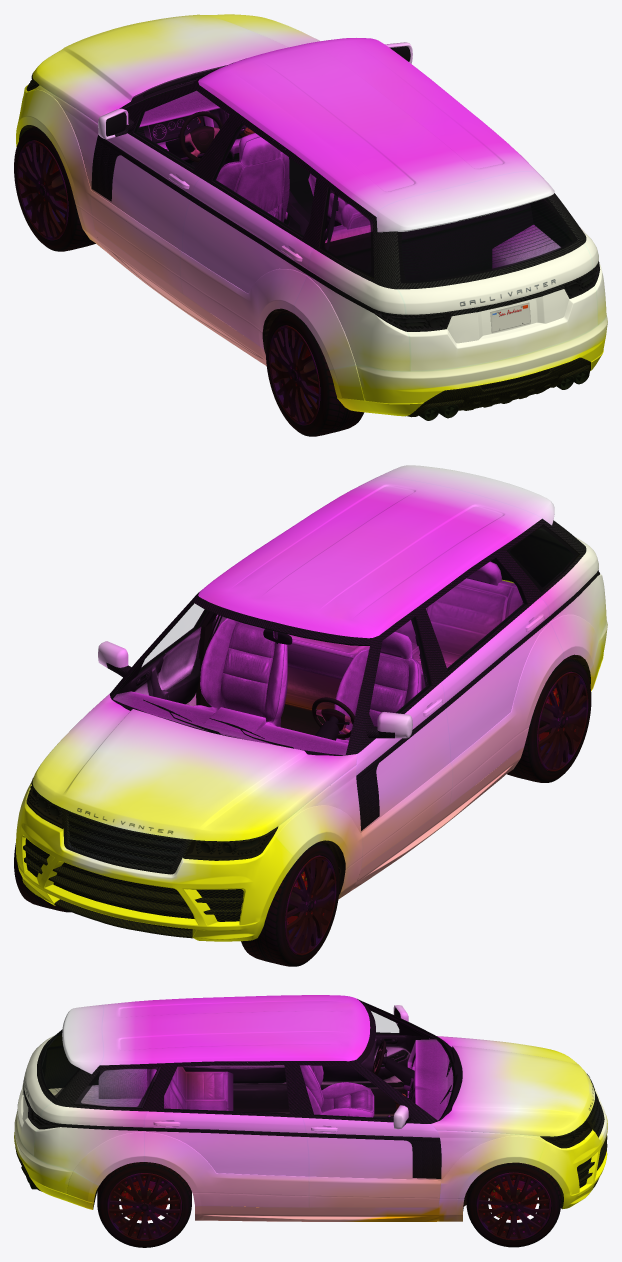
Rendered from baller4.glb.
3 views of the same model, one above another, from view 1: azimuth 30°, elevation 25°; view 2: azimuth 150°, elevation 25°; view 3: azimuth 270°, elevation 25° (orthographic). The views are drawn at different scales.
Visible parts, largest first — view 1: bodyshell, boot, chassis, door_dside_r, bonnet, door_dside_f, bumper_r, windscreen_r, wheel_lr, window_lr, wheel_lf, wing_lf (+3 smaller); view 2: bodyshell, chassis, bonnet, bumper_f, door_dside_r, door_dside_f, wheel_lf, wheel_lr, boot, window_lr, wing_lf, door_pside_f (+4 smaller); view 3: bodyshell, door_pside_r, door_pside_f, chassis, bonnet, wheel_rr, wheel_rf, window_rr, wing_rf, boot, window_rf, bumper_f (+5 smaller).
Boxes of the visible parts, x1,y1,x2,y2 form: bodyshell: [26, 38, 606, 371]; boot: [376, 171, 597, 371]; chassis: [122, 73, 589, 420]; door_dside_r: [180, 115, 324, 349]; bonnet: [32, 14, 320, 123]; door_dside_f: [90, 86, 237, 293]; bumper_r: [329, 315, 607, 417]; windscreen_r: [397, 197, 577, 283]; wheel_lr: [266, 311, 364, 436]; window_lr: [213, 124, 315, 236]; wheel_lf: [14, 126, 95, 251]; wing_lf: [26, 85, 104, 250]; bodyshell: [26, 476, 606, 891]; chassis: [111, 524, 589, 848]; bonnet: [32, 694, 357, 841]; bumper_f: [16, 783, 295, 941]; door_dside_r: [419, 550, 563, 804]; door_dside_f: [356, 608, 452, 869]; wheel_lf: [241, 841, 339, 966]; wheel_lr: [507, 657, 591, 782]; boot: [379, 465, 587, 589]; window_lr: [426, 559, 525, 669]; wing_lf: [274, 765, 362, 899]; door_pside_f: [98, 594, 209, 705]; bodyshell: [34, 995, 604, 1221]; door_pside_r: [144, 1062, 308, 1207]; door_pside_f: [291, 1061, 441, 1207]; chassis: [26, 1001, 478, 1207]; bonnet: [431, 1036, 594, 1136]; wheel_rr: [97, 1162, 191, 1247]; wheel_rf: [466, 1162, 561, 1247]; window_rr: [164, 1066, 288, 1113]; wing_rf: [436, 1130, 546, 1221]; boot: [17, 1004, 103, 1155]; window_rf: [300, 1066, 398, 1118]; bumper_f: [536, 1088, 607, 1209].
Bounding box in the file's own units: 2.42 × 1.84 × 5.45.
21 materials, 21 textured.
